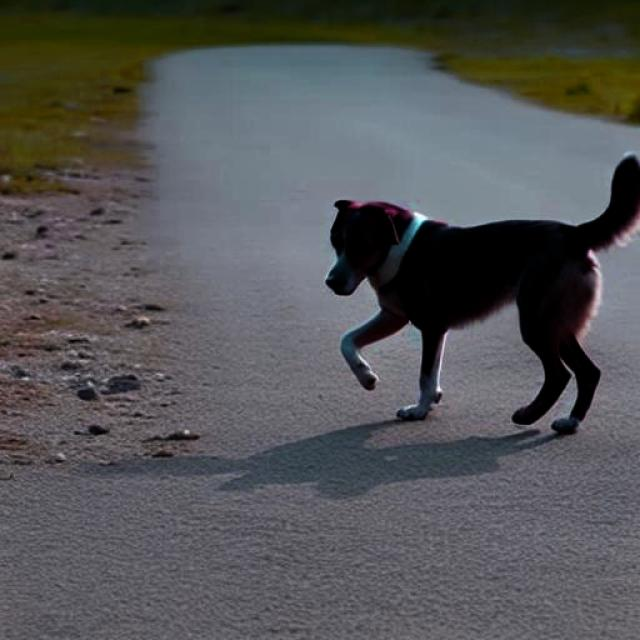Dog: (326, 154, 640, 433)
